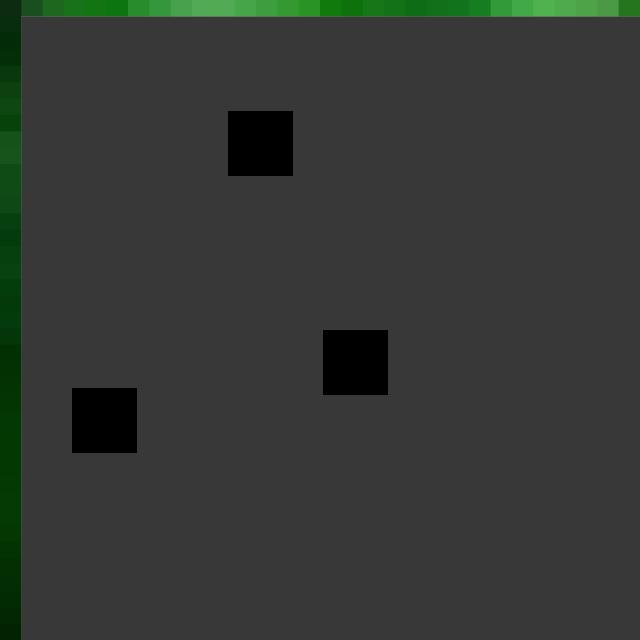nofire: (21, 16, 640, 640)
